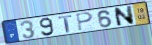3: (20, 19, 36, 40)
6: (97, 9, 113, 28)
9: (40, 17, 56, 37)
N: (113, 5, 136, 27)
P: (75, 11, 94, 32)
T: (57, 14, 73, 33)
